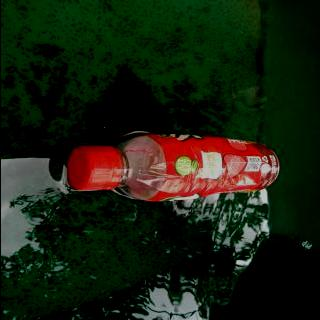bottle: (63, 132, 284, 203)
